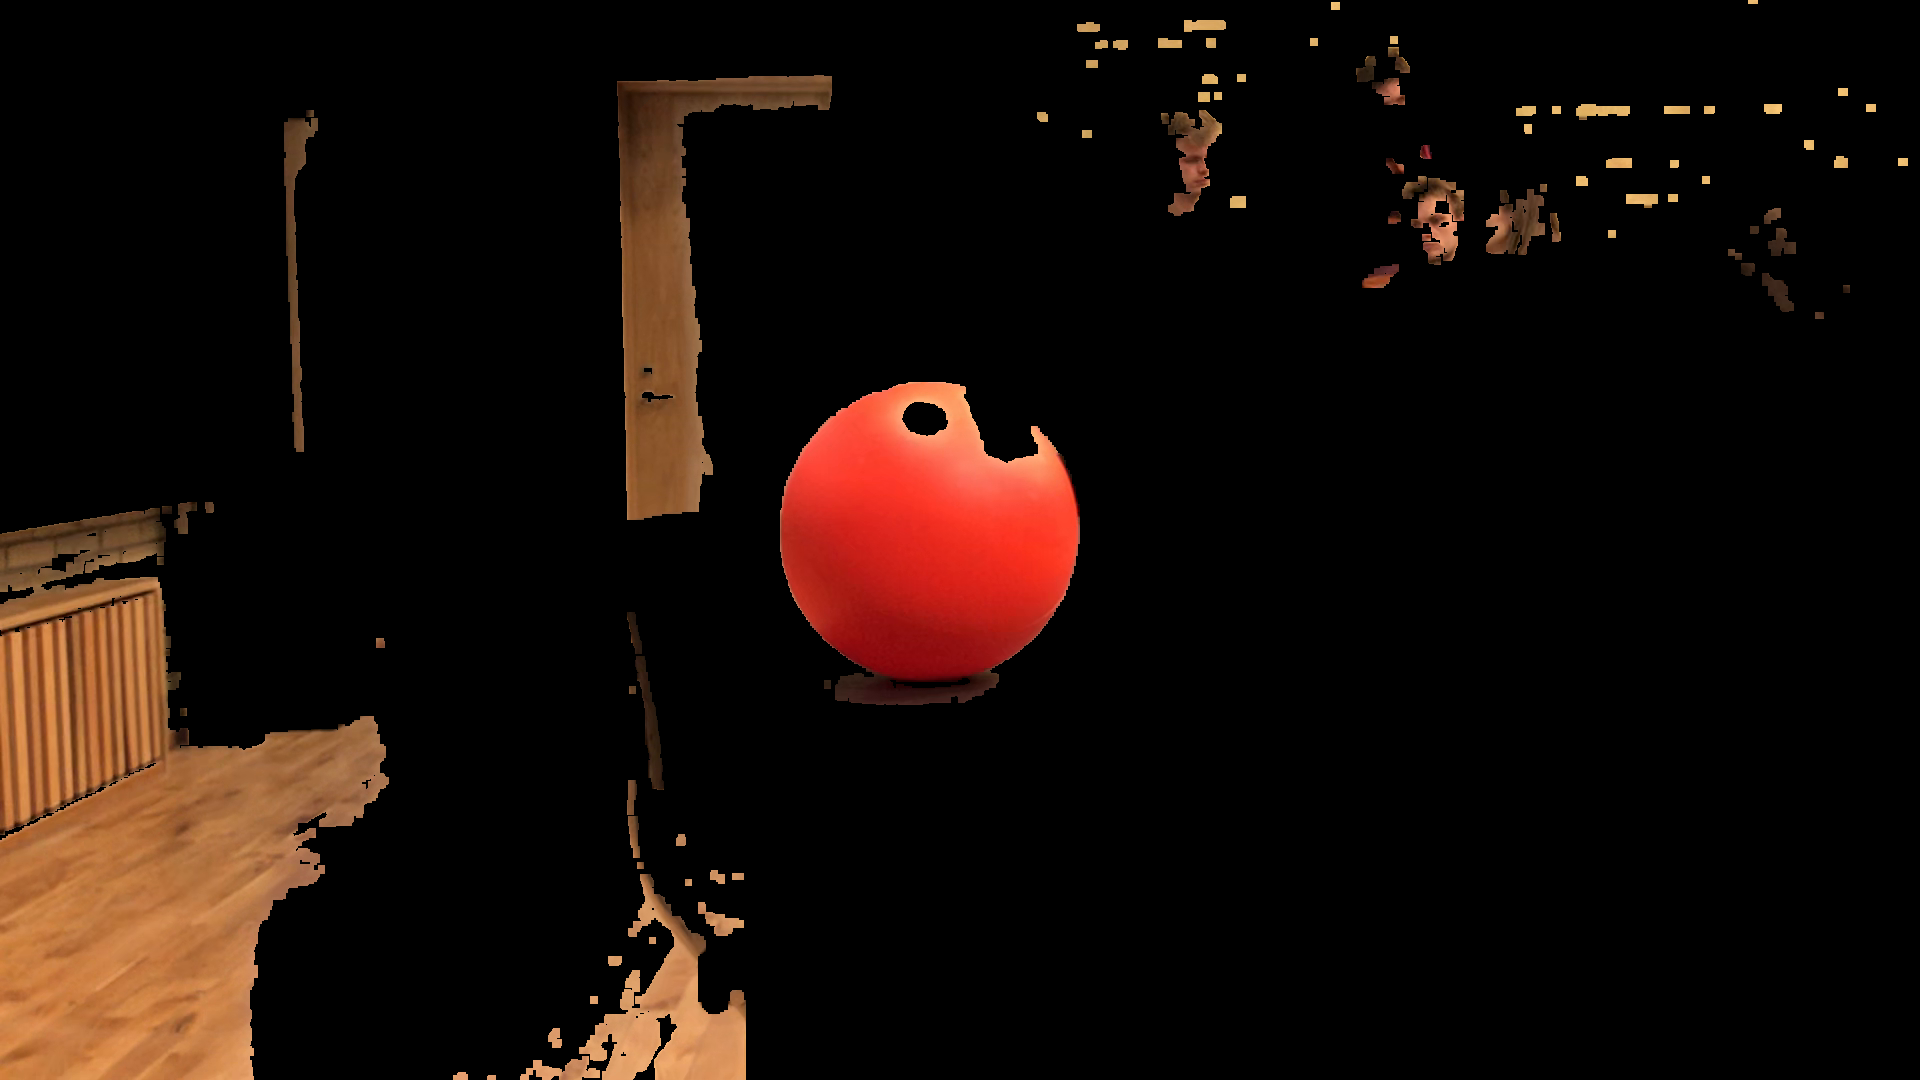Ball: (777, 380, 1080, 680)
